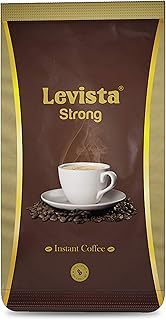Coffee: (1, 2, 166, 316)
